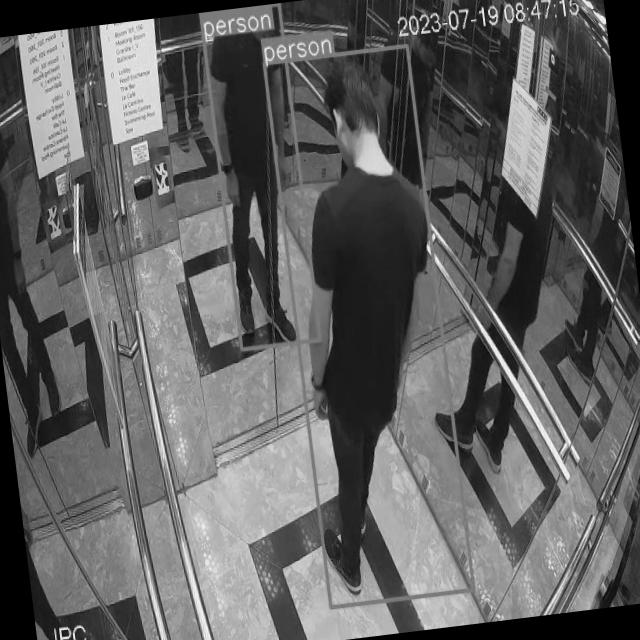person: (262, 46, 472, 608), (418, 182, 565, 473), (201, 7, 322, 352)
